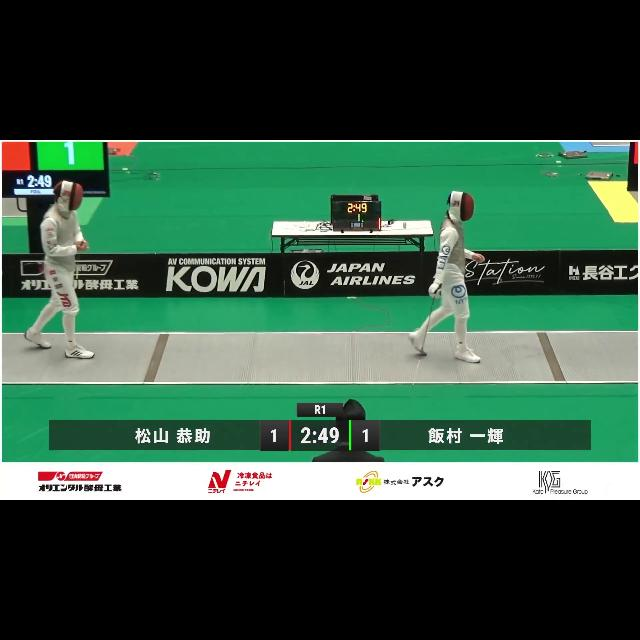blade: (408, 283, 444, 397)
